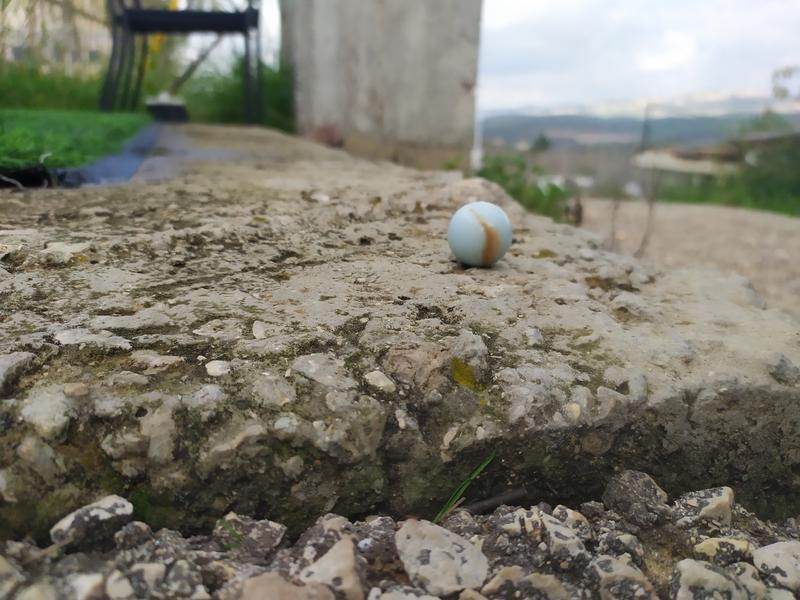Warning: (444, 199, 515, 270)
